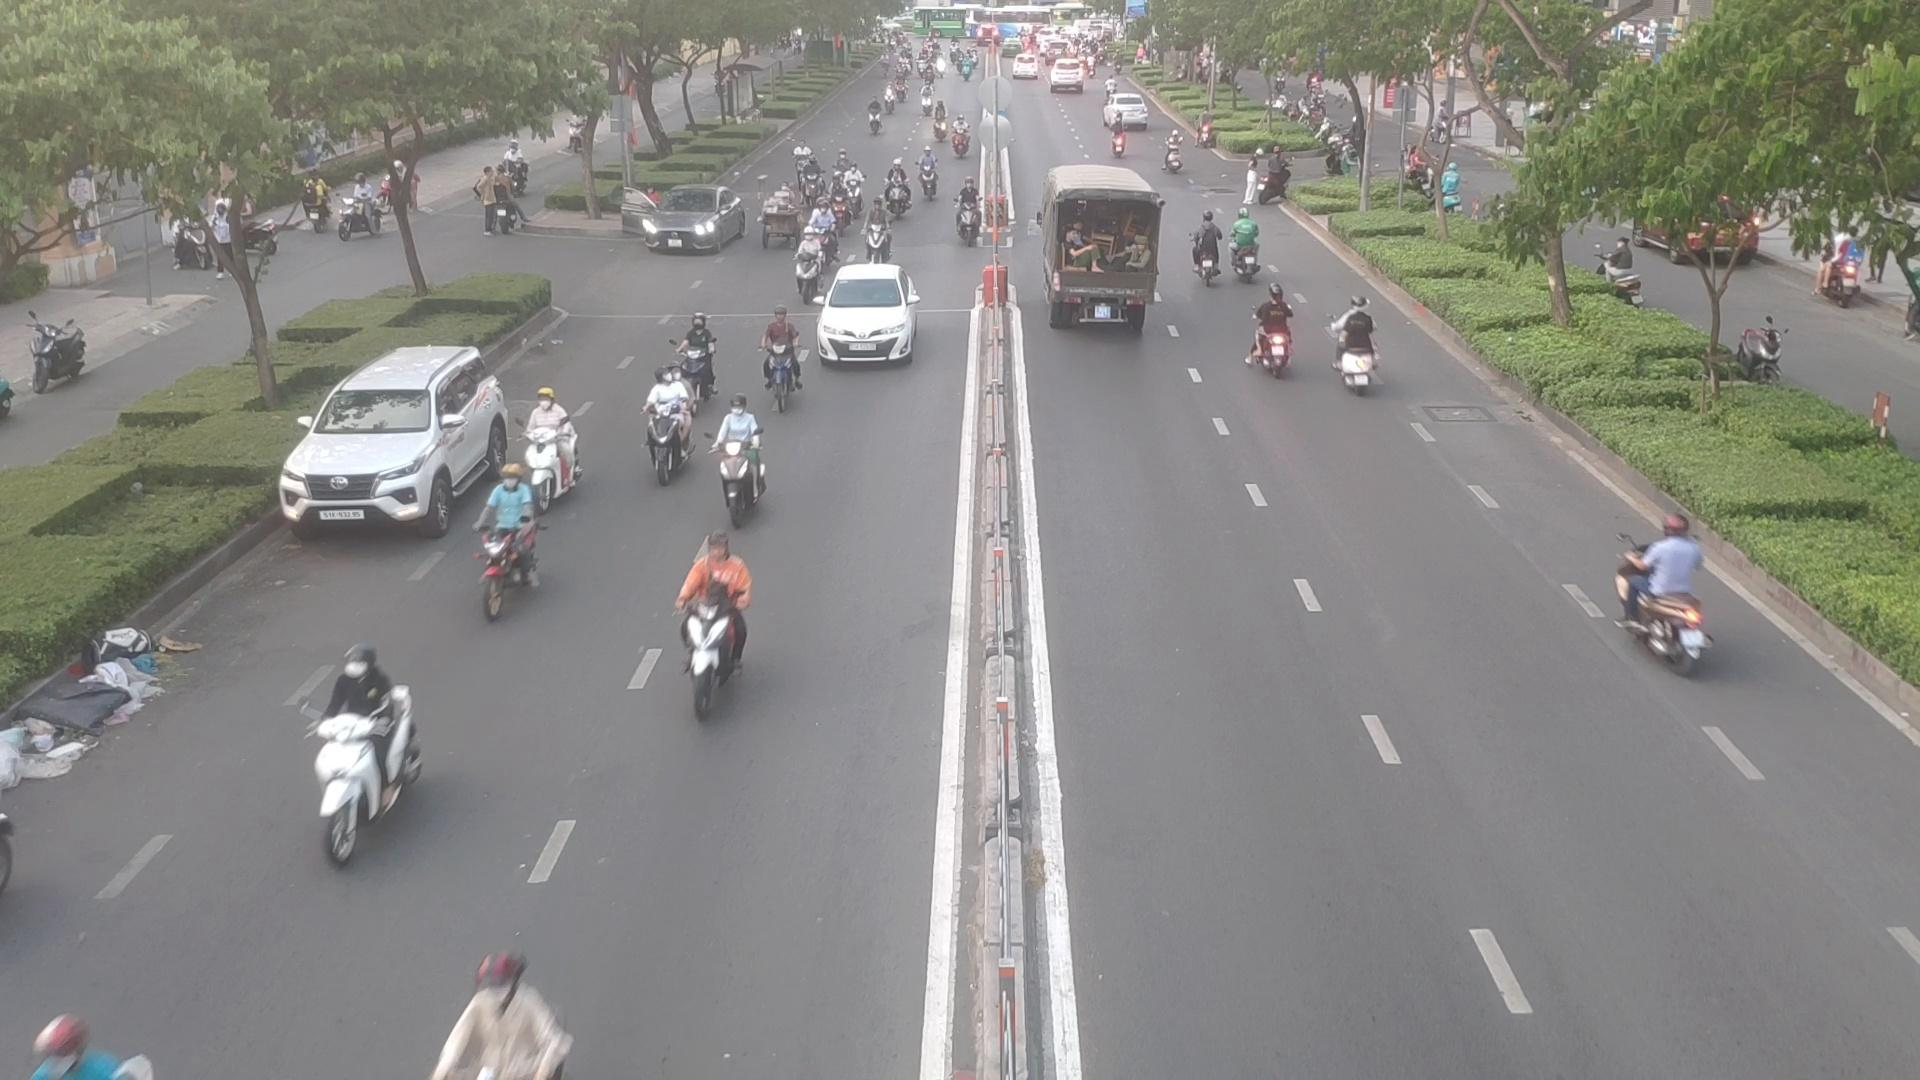car: (287, 342, 520, 531), (1038, 160, 1160, 330), (816, 268, 923, 367), (622, 190, 753, 257)
motorbike: (306, 651, 436, 860), (407, 959, 572, 1080), (1611, 520, 1720, 674), (665, 541, 756, 721), (458, 469, 545, 616), (15, 1017, 169, 1080), (527, 394, 588, 512), (705, 407, 765, 513), (637, 375, 694, 477), (760, 313, 818, 411), (1332, 301, 1387, 396), (1185, 212, 1254, 286), (1244, 289, 1299, 373), (676, 316, 729, 393), (953, 185, 992, 249), (795, 237, 833, 295), (880, 164, 910, 219), (1151, 132, 1182, 174), (919, 152, 945, 198), (1100, 123, 1130, 157)
